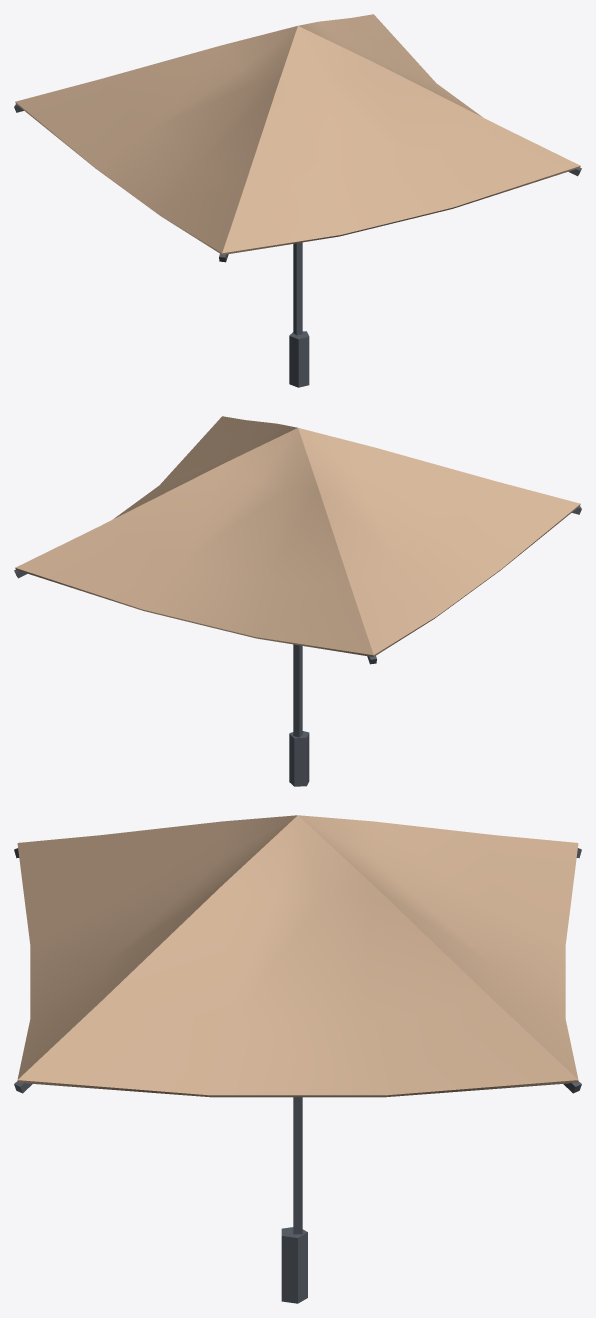
Rendered from SquareUmbrella.fbx.
3 views of the same model, one above another, from view 1: azimuth 30°, elevation 25°; view 2: azimuth 150°, elevation 25°; view 3: azimuth 270°, elevation 25° (orthographic). The views are drawn at different scales.
Visible parts, largest first — view 1: SquareUmbrella; view 2: SquareUmbrella; view 3: SquareUmbrella.
Part boxes in pixels (box(x1,y1,x2,y2)): SquareUmbrella: box(14, 14, 581, 387); SquareUmbrella: box(14, 416, 581, 786); SquareUmbrella: box(14, 815, 581, 1303).
Bounding box in the file's own units: 309 × 289 × 309.
